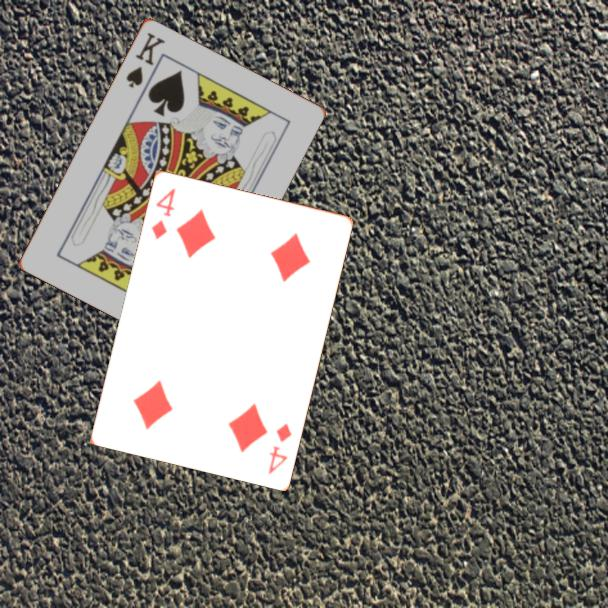d04: (148, 184, 178, 242), (264, 419, 294, 477)
s13: (122, 28, 168, 91)
